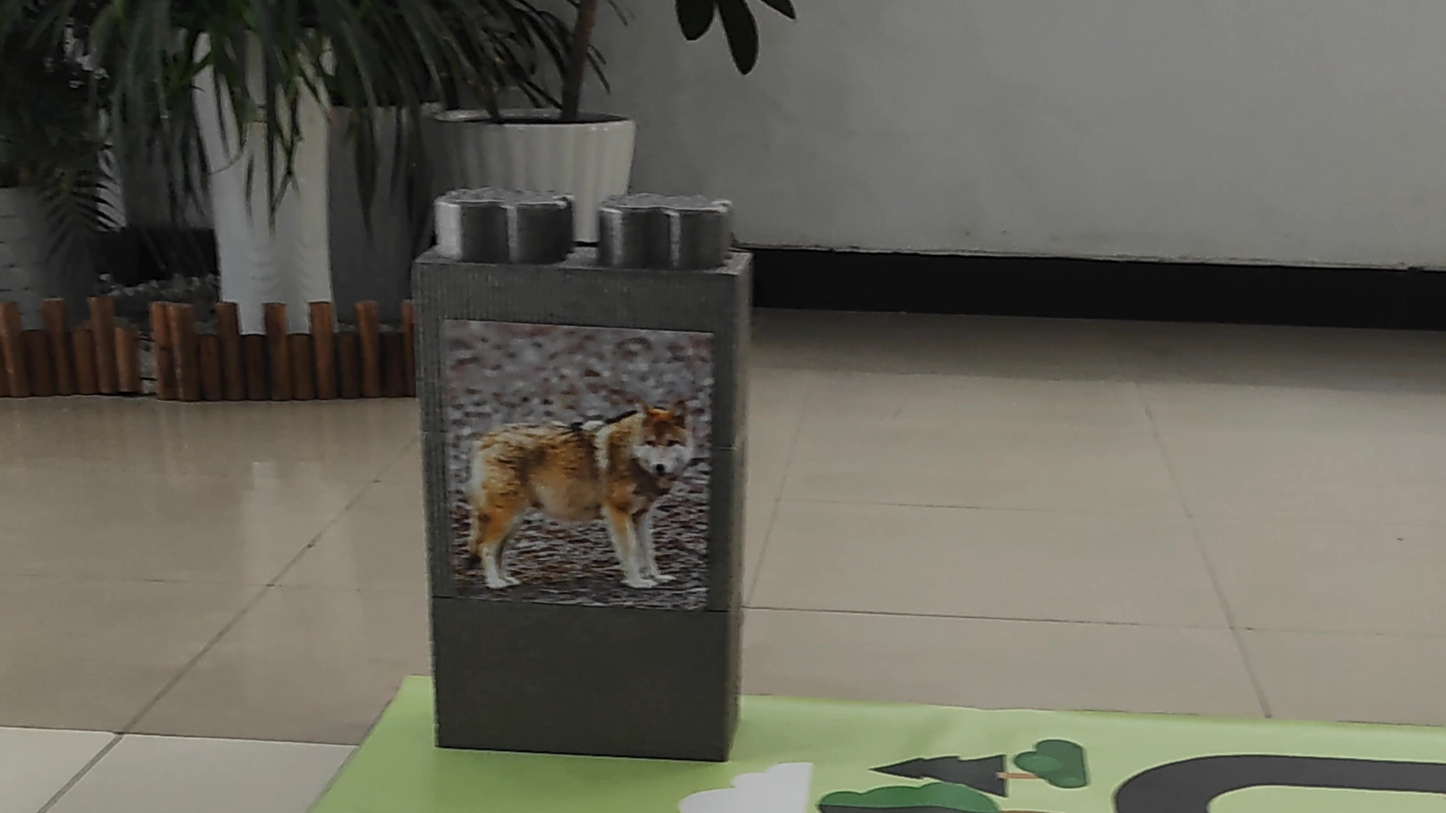wolf: (445, 314, 705, 591)
